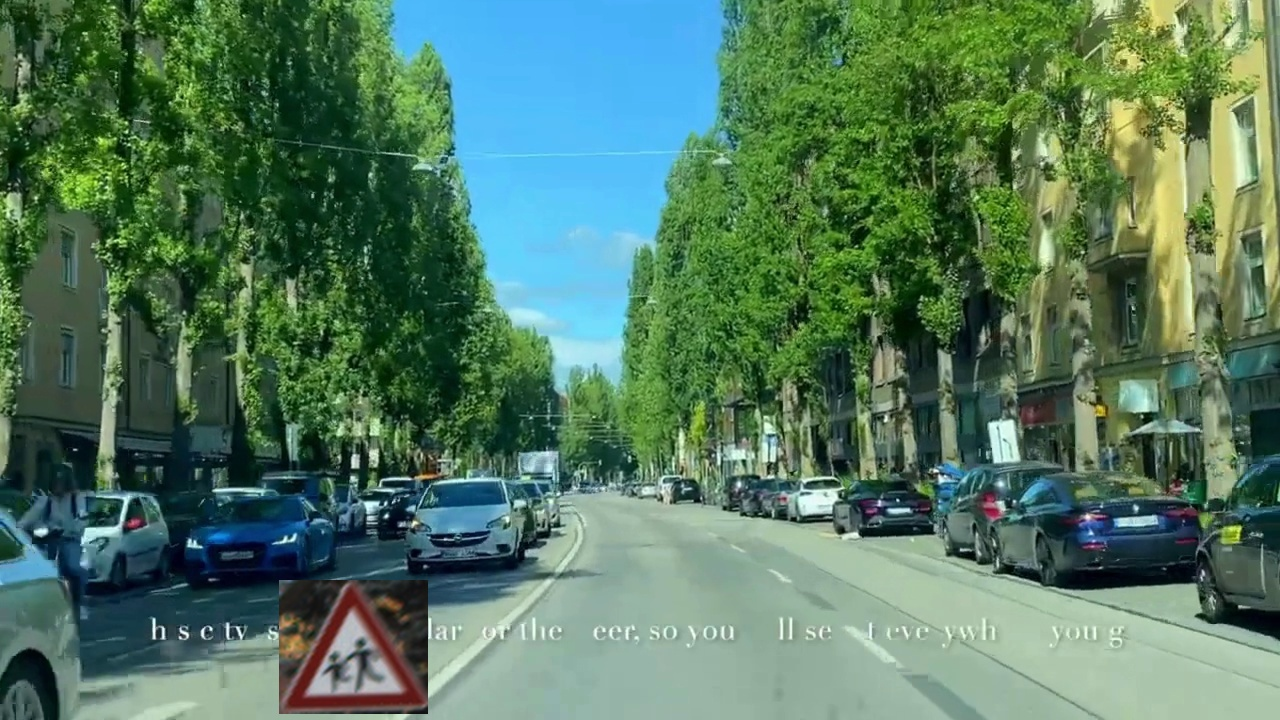Children: (279, 580, 428, 714)
